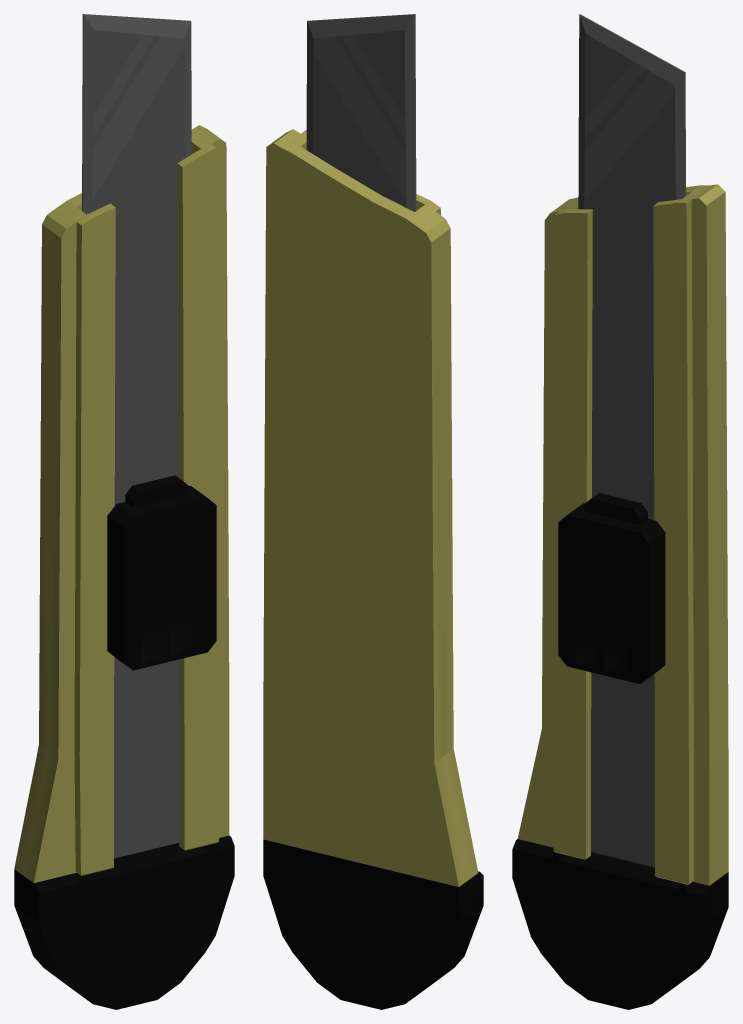
File: box_cutter.fbx
3 renders of one model, left to right at view 1: azimuth 30°, elevation 25°; view 2: azimuth 150°, elevation 25°; view 3: azimuth 330°, elevation 25°, orthographic. The views are drawn at different scales.
Parts seen in each view (by area): view 1: box_cutter; view 2: box_cutter; view 3: box_cutter.
Part boxes in pixels (x1,y1,x2,y2): box_cutter: (14,14,234,1009); box_cutter: (263,14,483,1009); box_cutter: (512,14,728,1009).
Bounding box in the file's own units: 4.28 × 20.7 × 1.66.
